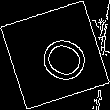O_NW: (22, 24, 88, 86)
